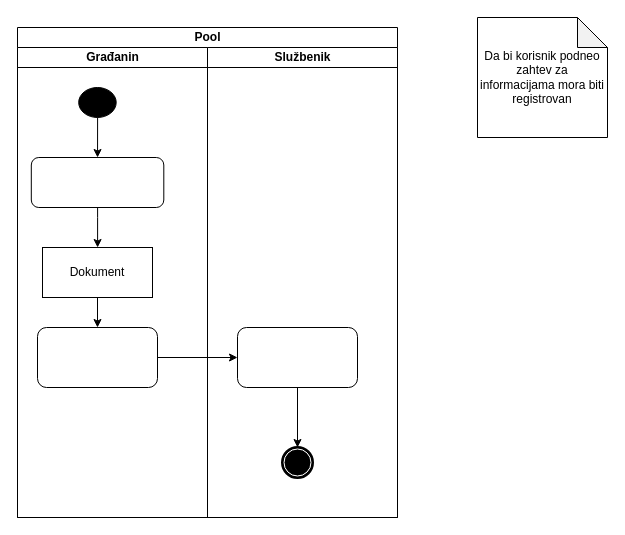
Image size: 625x535. Some labels were removed from this diagram. The shapes that lost their labels are listed below. From the top down, each one's centre as x and y in pixels, then its label:
At point (97, 182): "Unos opisa zahteva za informacijom od javnog značaja".
At point (97, 357): "Slanje dokumenta".
At point (297, 357): "Primanje dokumenta".
